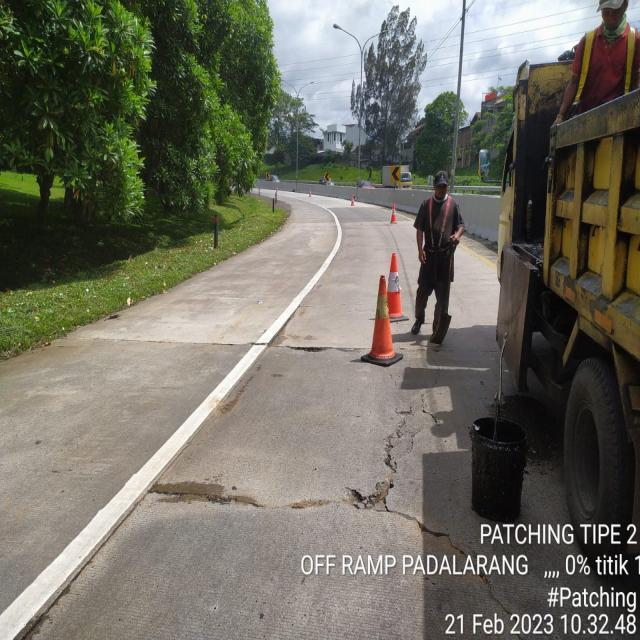Buraco: (342, 476, 396, 514), (288, 345, 327, 354)
